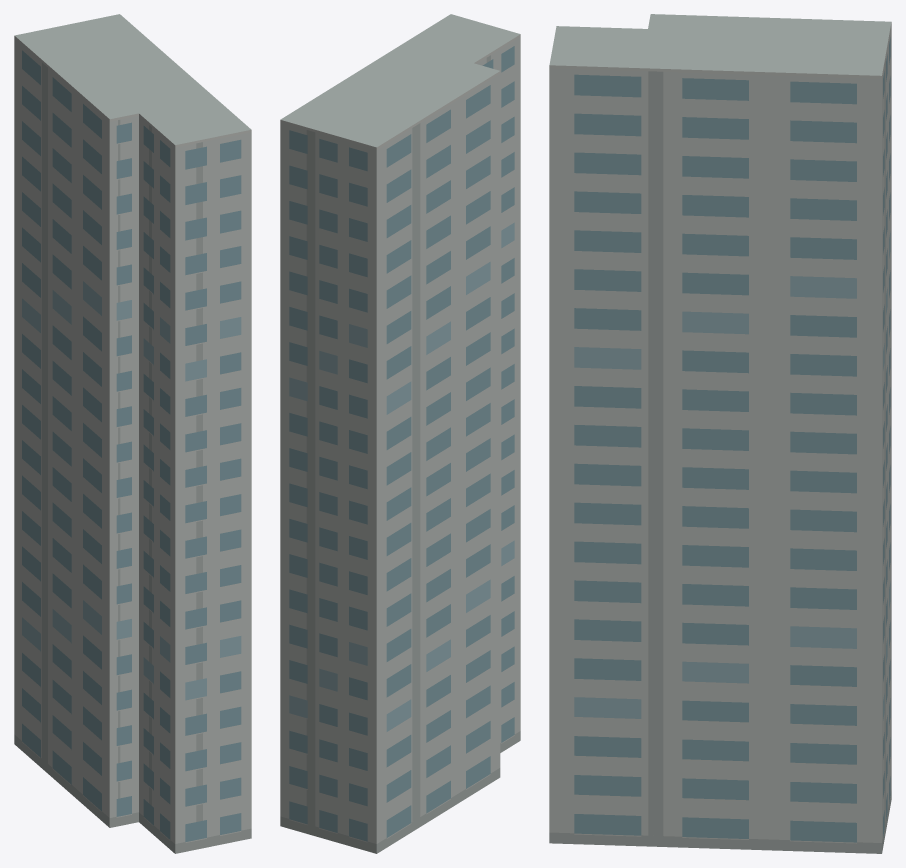
File: residential-a54324e7-2c62-4ba5-bf96-b358645a6604.glb
3 views of the same model, side by side, from view 1: azimuth 30°, elevation 25°; view 2: azimuth 150°, elevation 25°; view 3: azimuth 270°, elevation 25° (orthographic). The views are drawn at different scales.
Visible parts, largest first — view 1: residential-a54324e7-2c62-4ba5-bf96-b358645a6604.tmp; view 2: residential-a54324e7-2c62-4ba5-bf96-b358645a6604.tmp; view 3: residential-a54324e7-2c62-4ba5-bf96-b358645a6604.tmp.
Boxes of the visible parts, x1,y1,x2,y2 form: residential-a54324e7-2c62-4ba5-bf96-b358645a6604.tmp: (14,14,251,853); residential-a54324e7-2c62-4ba5-bf96-b358645a6604.tmp: (280,14,520,853); residential-a54324e7-2c62-4ba5-bf96-b358645a6604.tmp: (549,14,891,853).
Bounding box in the file's own units: 11.61 × 68 × 27.11.
